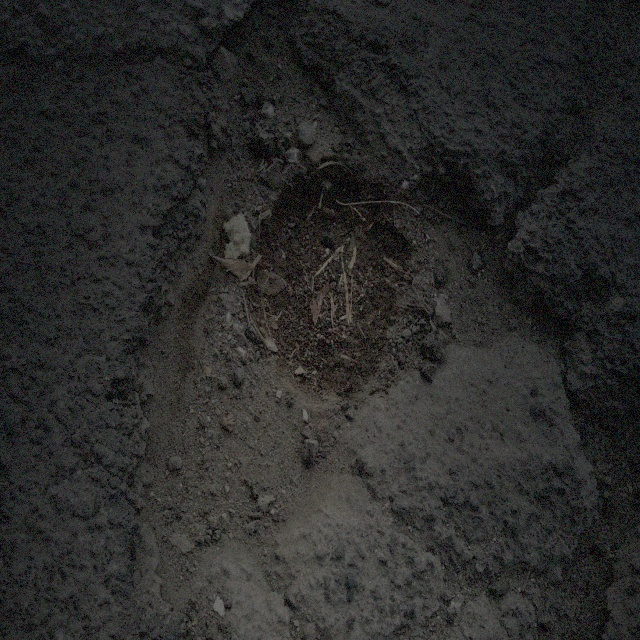pothole: (107, 18, 517, 481), (245, 150, 414, 412)
